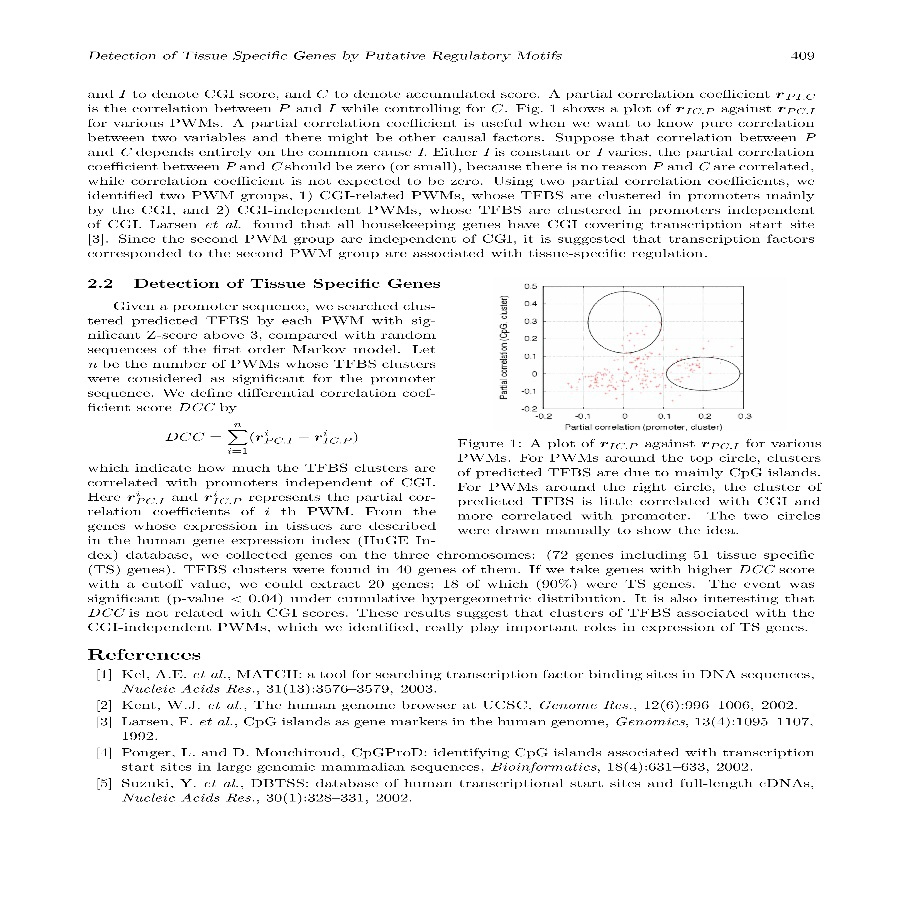eq: (163, 417, 362, 452)
